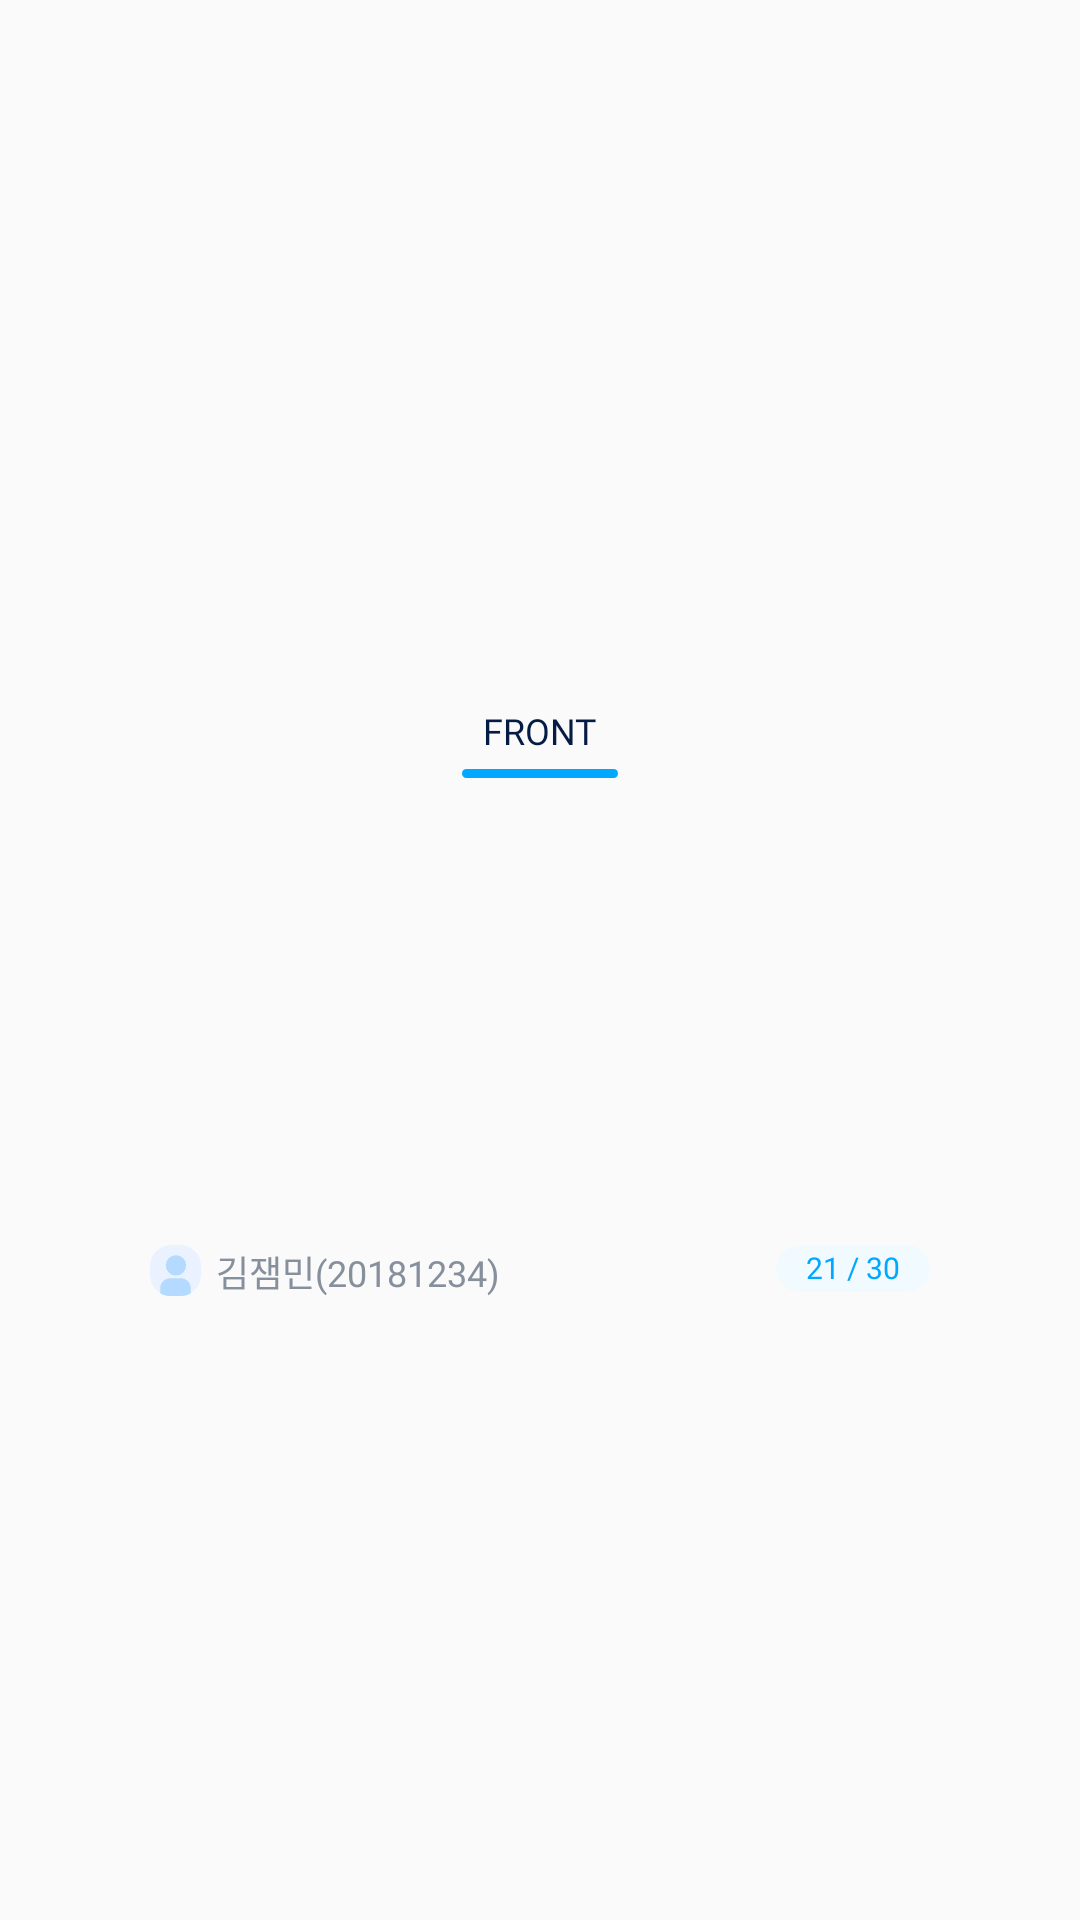

Locate icon controls on the screen. Image size 1080 x 1920, boxes as (x1, y1, x2, y2).
profile pic: (160, 1255, 191, 1296)
